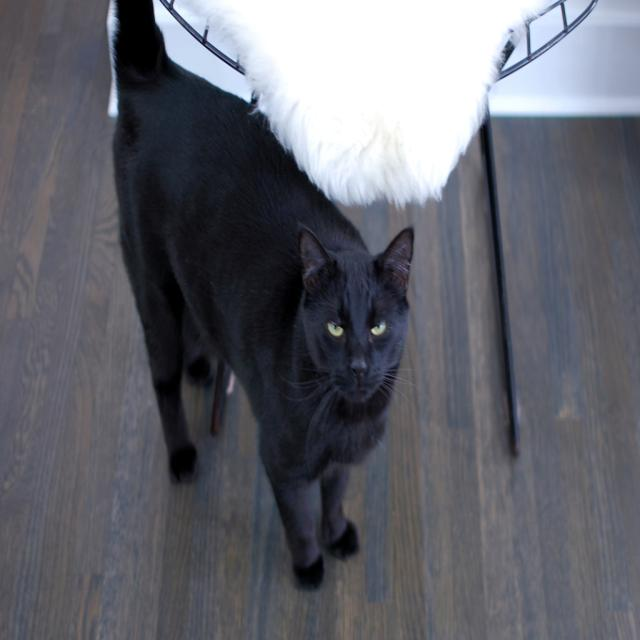Cat: (108, 0, 415, 588)
